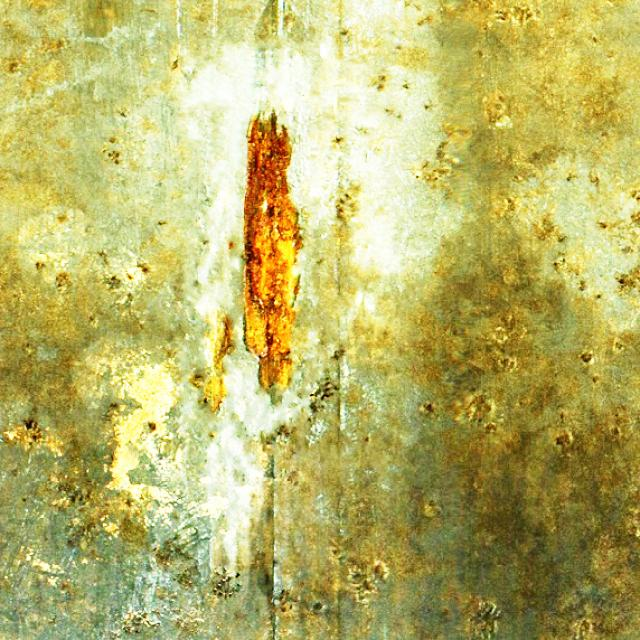Corrosion: (244, 109, 304, 397), (208, 310, 234, 404)
